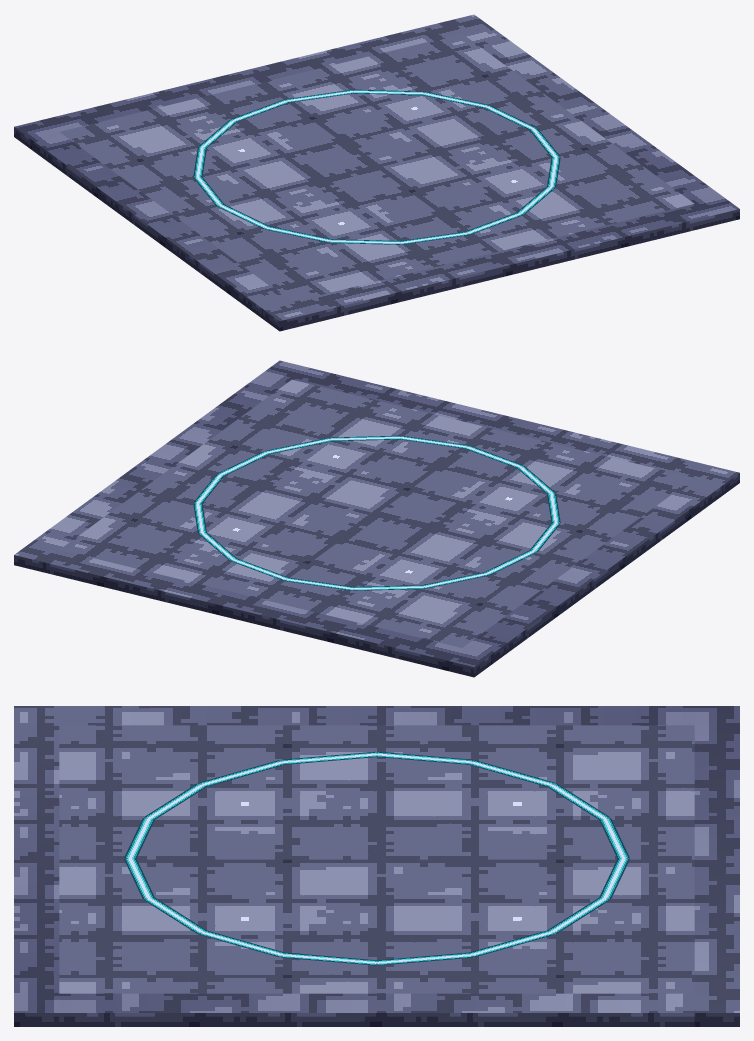
The model's file is cystreet.plaza.glb.
3 renders of one model, top to bottom at view 1: azimuth 30°, elevation 25°; view 2: azimuth 150°, elevation 25°; view 3: azimuth 270°, elevation 25°, orthographic. The views are drawn at different scales.
Visible parts, largest first — view 1: kit_shell_tiles, kit_border, kit_card_inlay; view 2: kit_shell_tiles, kit_border, kit_card_inlay; view 3: kit_shell_tiles, kit_border, kit_card_inlay.
Part boxes in pixels (left/top/right/bottom): kit_shell_tiles: left=60, top=33, right=694, bottom=301; kit_border: left=14, top=14, right=739, bottom=331; kit_card_inlay: left=193, top=89, right=560, bottom=244; kit_shell_tiles: left=59, top=379, right=693, bottom=647; kit_border: left=14, top=360, right=739, bottom=677; kit_card_inlay: left=193, top=435, right=560, bottom=590; kit_shell_tiles: left=59, top=725, right=694, bottom=993; kit_border: left=14, top=706, right=739, bottom=1026; kit_card_inlay: left=124, top=751, right=629, bottom=965.
Size of the model in its own units: 8 by 0.18 by 8.
4 materials, 4 textured.
